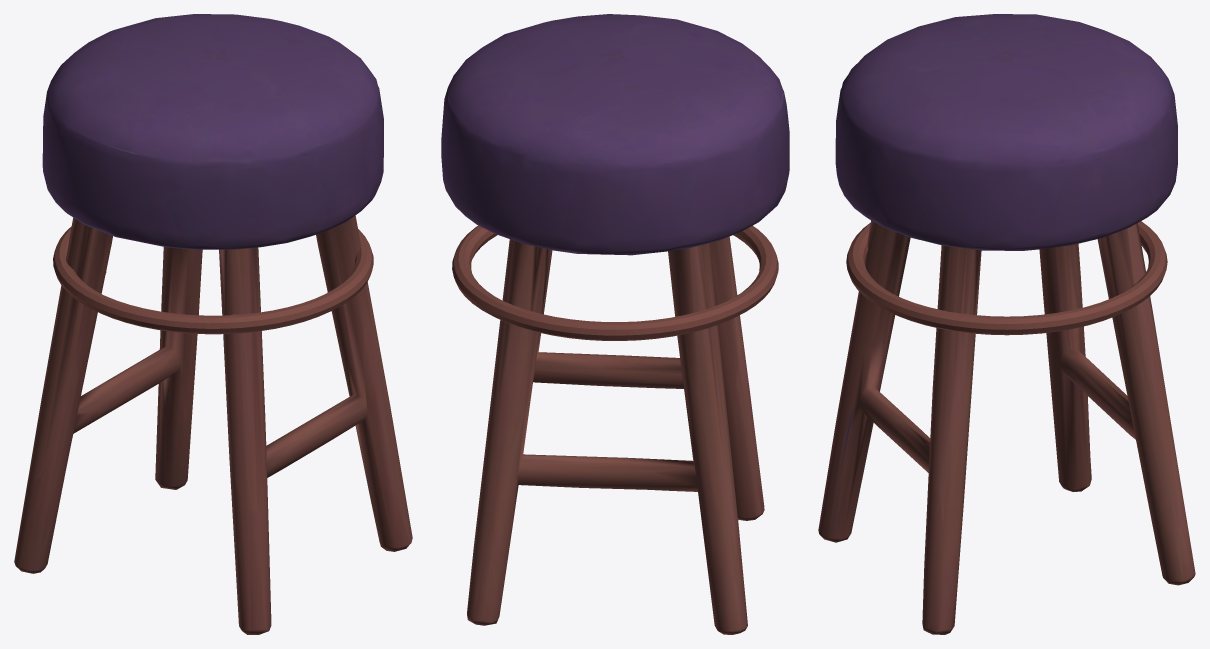
The model's file is stool.glb.
3 views of the same model, side by side, from view 1: azimuth 30°, elevation 25°; view 2: azimuth 150°, elevation 25°; view 3: azimuth 270°, elevation 25° (orthographic).
Parts seen in each view (by area): view 1: stool; view 2: stool; view 3: stool.
Part boxes in pixels (left/top/right/bottom): stool: left=14, top=14, right=412, bottom=634; stool: left=441, top=14, right=789, bottom=634; stool: left=818, top=14, right=1195, bottom=634.
Bounding box in the file's own units: 0.3605 × 0.5334 × 0.3616.
1 material, 1 textured.
